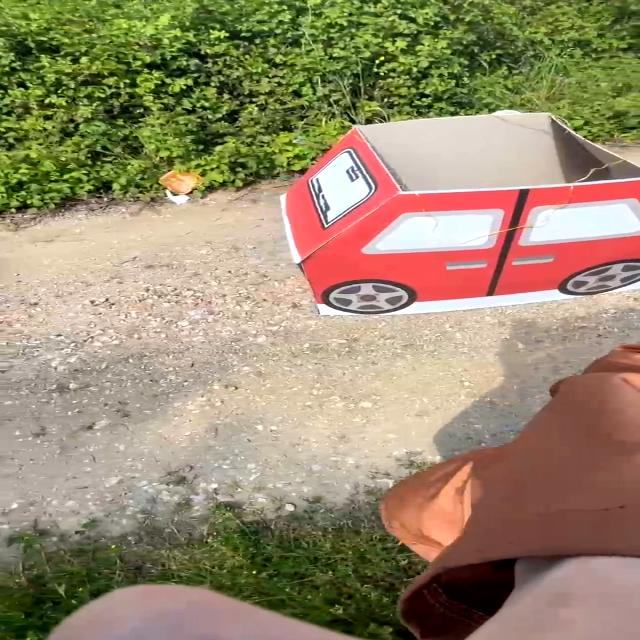red_car: (250, 100, 640, 329)
